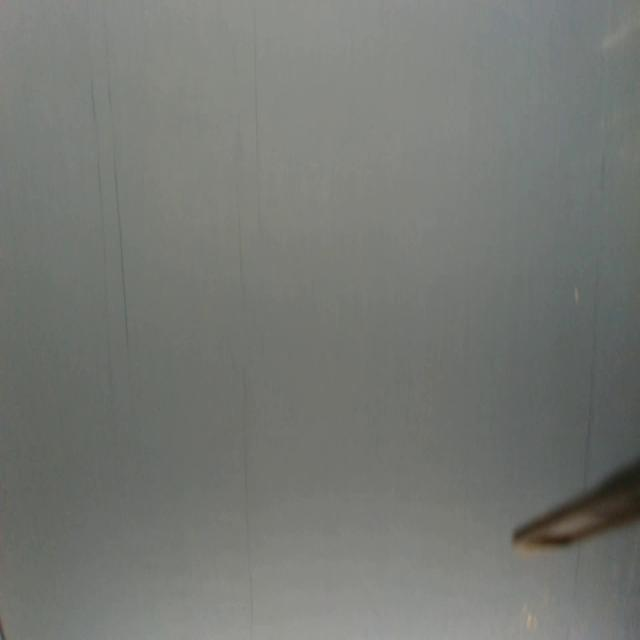crease: (89, 80, 116, 444), (582, 269, 601, 487), (251, 0, 265, 241), (115, 188, 132, 349), (242, 434, 255, 638), (234, 194, 248, 310)
hole: (572, 284, 582, 308)
